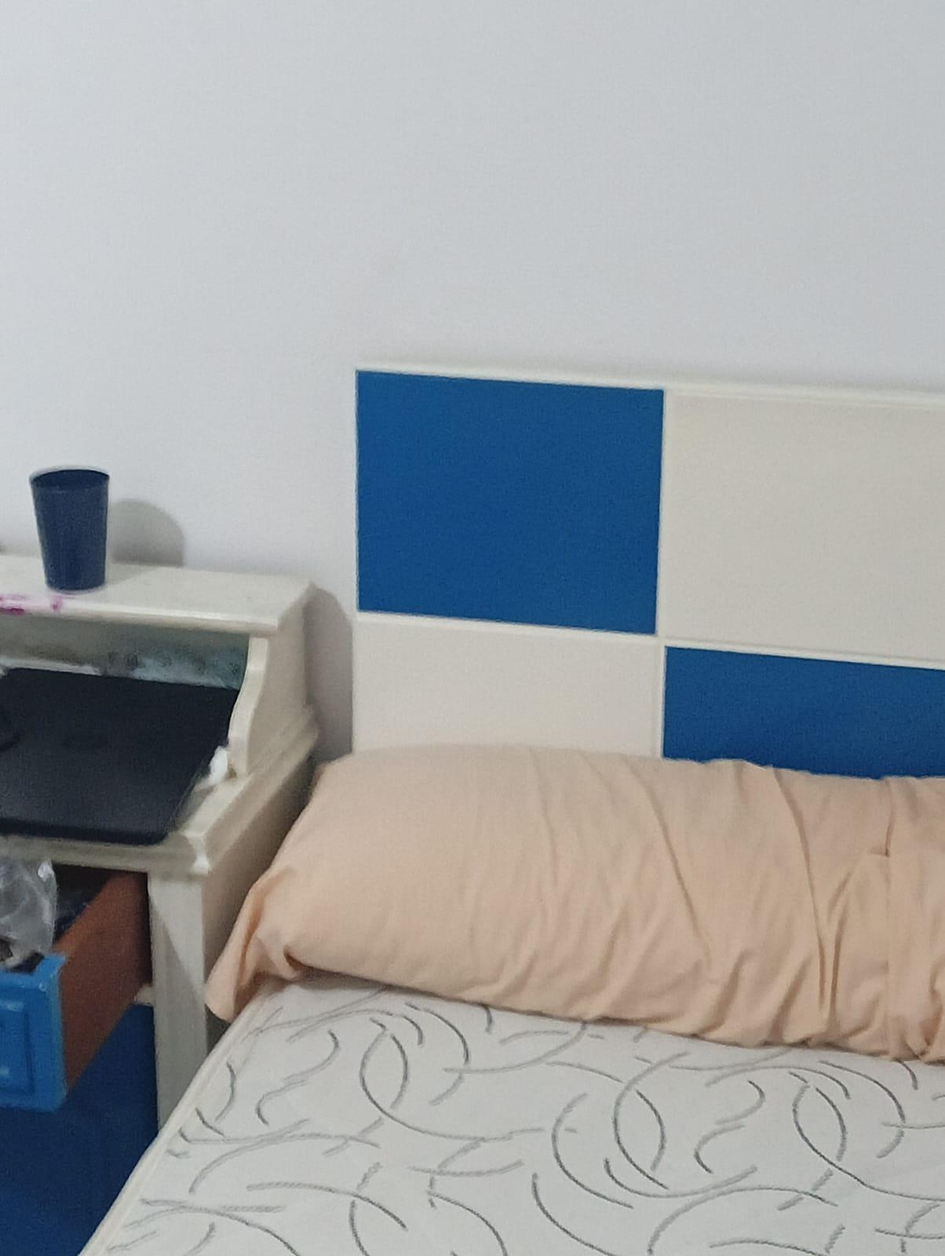cup: (31, 468, 108, 590)
